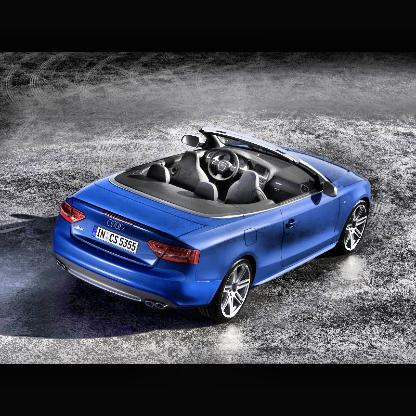Audi S5 Convertible 2012: (52, 130, 370, 321)
